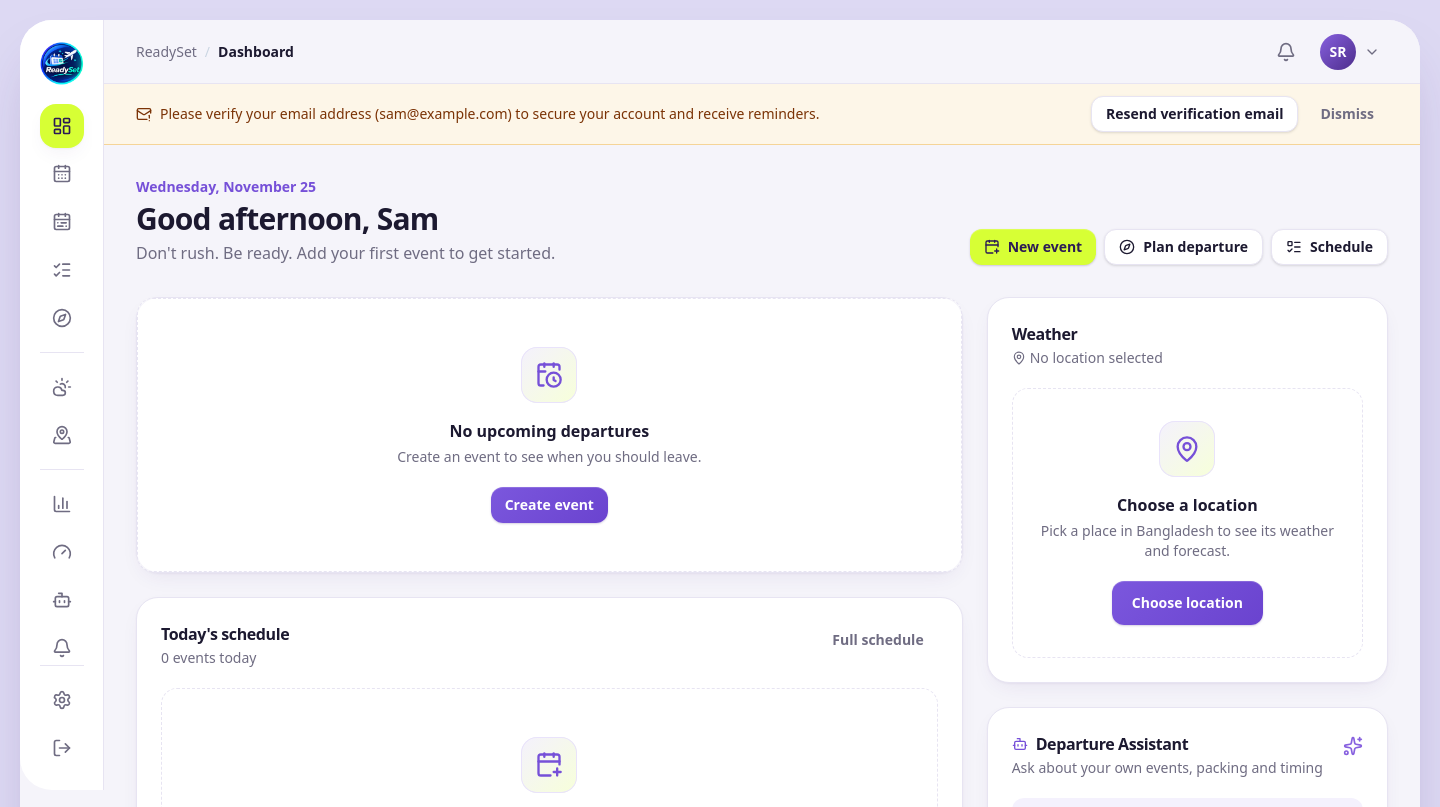
Test case: verification status › shows the reminder banner and lets an unverified user resend the link
The image size is (1440, 807).
Check: the element named "Email verification" shows "sam@example.com", box [160,104,820,123]
Click the button "Resend verification email": point(1195, 114) [1091,96,1298,132]
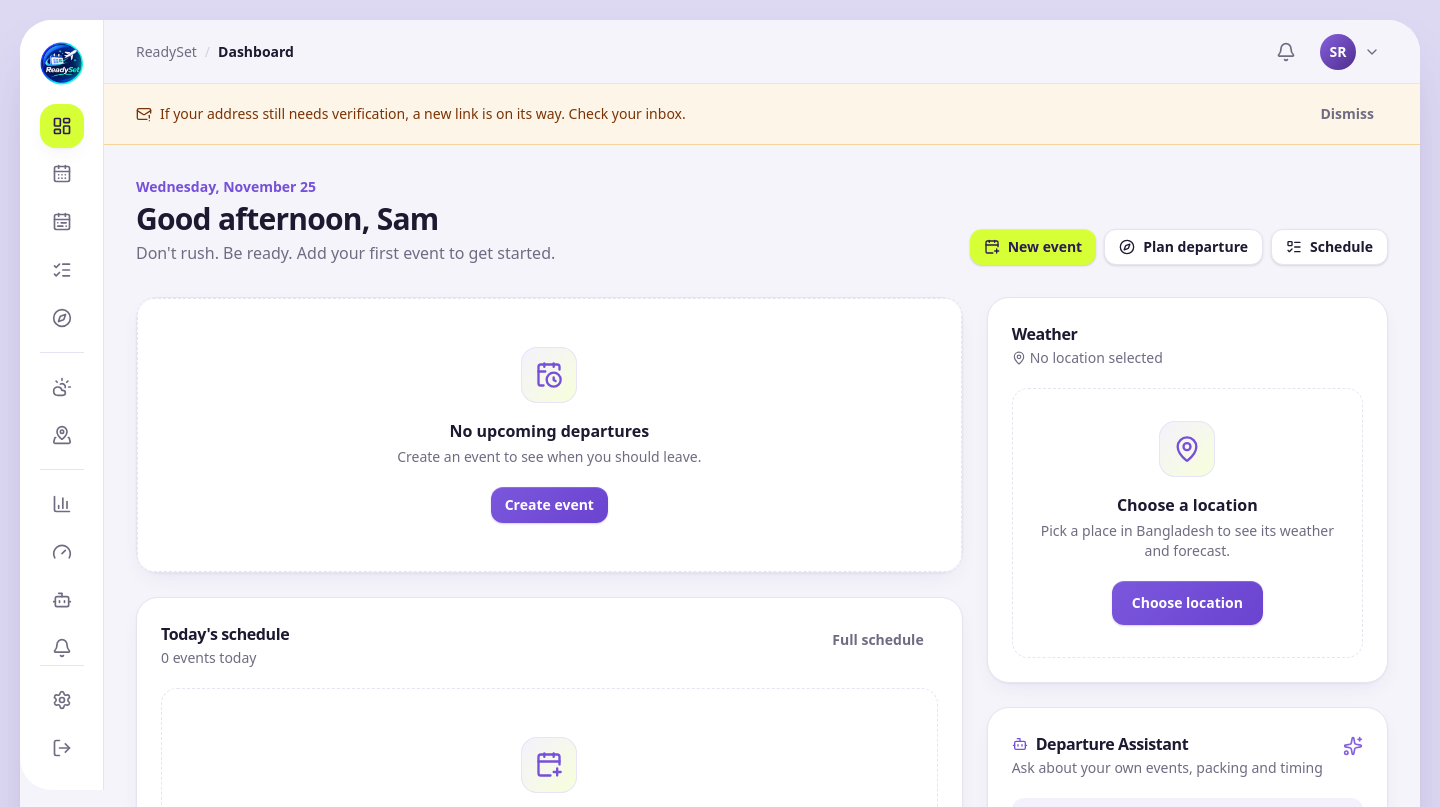
Check: the text "a new link is on its way" is shown, box [160,104,686,123]
